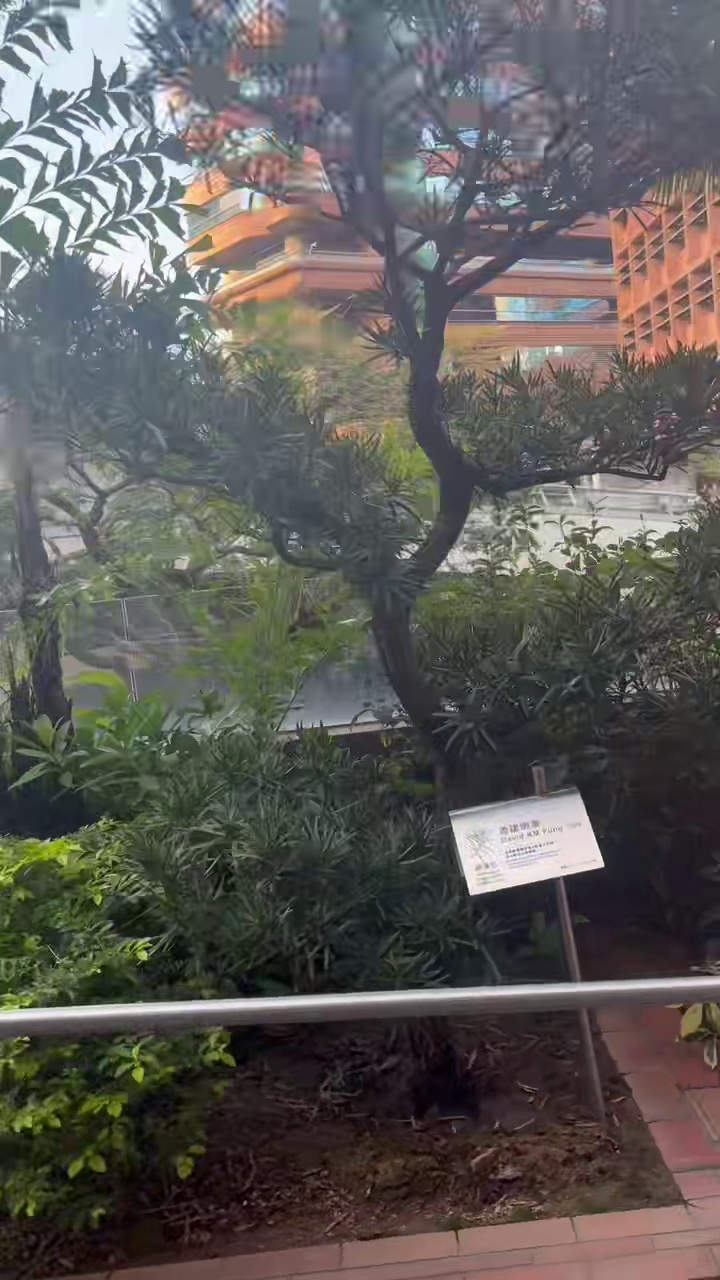Podocarpus macrophyllus: (140, 0, 719, 735)
